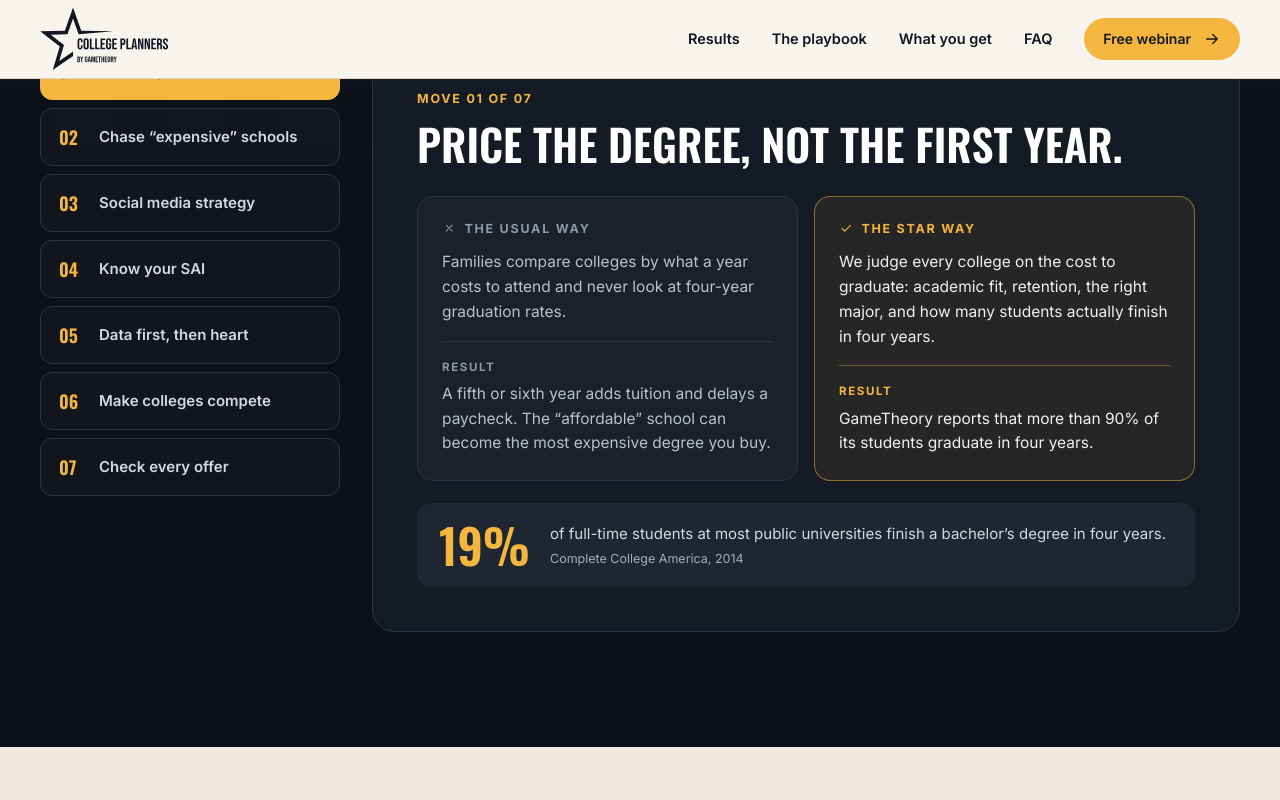
Test case: the playbook switches between moves
The width and height of the screenshot is (1280, 800).
(page scrolled)
Expected: the heading "Price the degree, not the first year." is shown, x1=417 y1=121 x2=1195 y2=166
What coordinates should you click on to do the following:
click the button "06 Make colleges compete"
I would click on:
 (190, 401)
Its box is x1=40 y1=372 x2=340 y2=430.
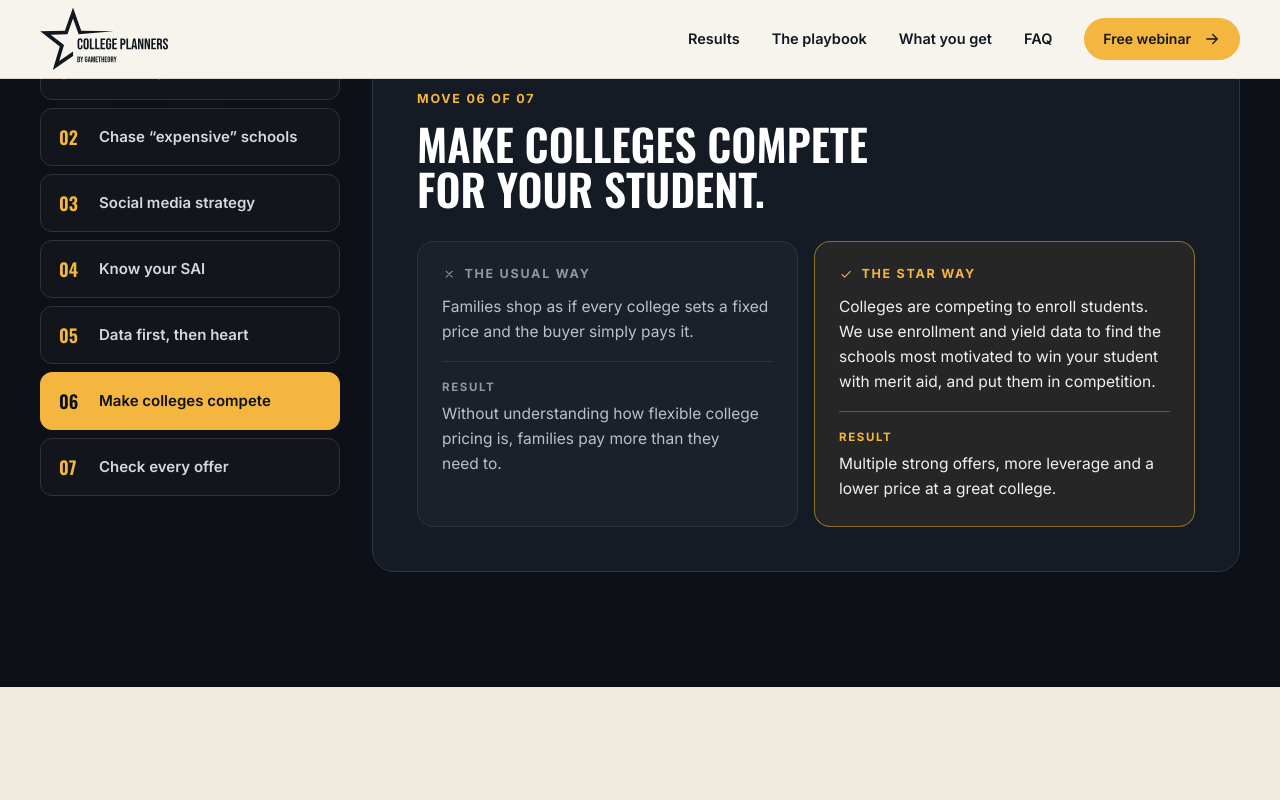
Now the text "Move 06 of 07" is shown, box x1=417 y1=91 x2=535 y2=106
Now the heading "Make colleges compete for your student." is shown, box x1=417 y1=111 x2=868 y2=221
